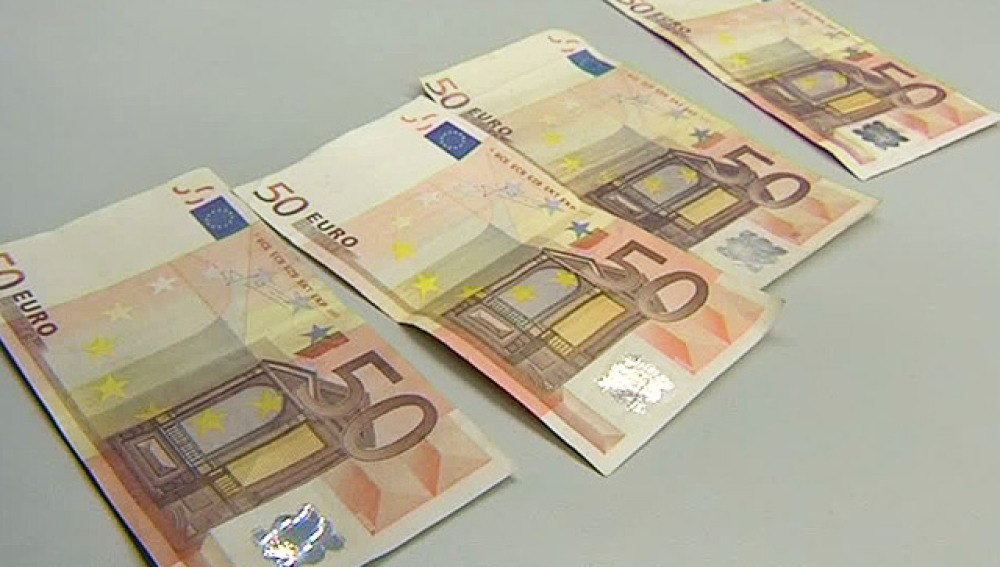billete: (230, 94, 786, 478), (1, 166, 519, 567), (417, 26, 883, 290), (606, 1, 1000, 181)
